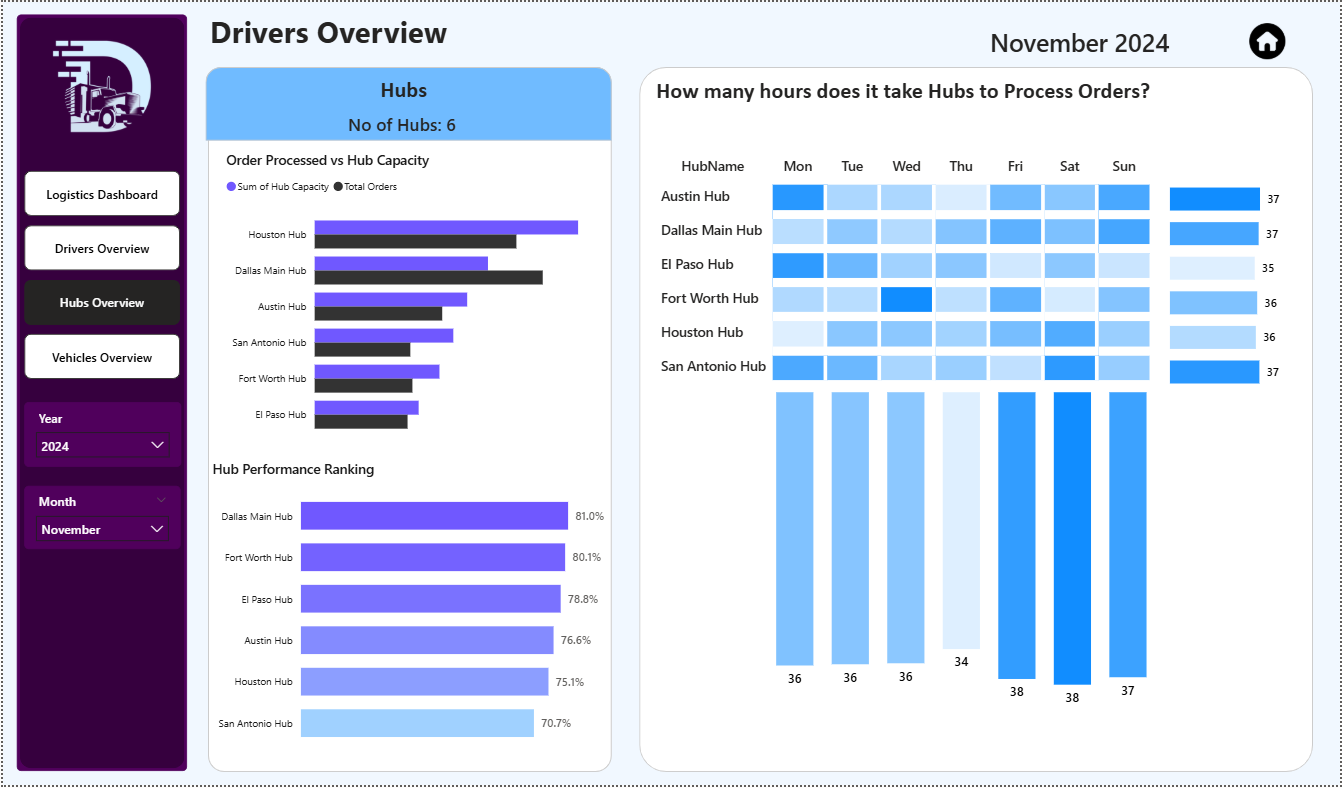

Layout of this report page (visuals, bound fields, positions):
{"tool":"powerbi","page":{"name":"Hubs Overview","canvas":[1450,850],"ordinal":2},"visuals":[{"type":"shape","box":[15.5,14,185,820.8],"z":0},{"type":"textbox","box":[219.7,5.4,383.8,58.3],"z":1000},{"type":"slicer","fields":{"Values":["Date Table.Year"]},"box":[22.9,434.3,170,70],"z":2000},{"type":"slicer","fields":{"Values":["Date Table.Month"]},"box":[23.1,525.2,169.5,69.2],"z":3000},{"type":"image","box":[43.4,29.8,130.2,131.5],"z":4000},{"type":"cardVisual","fields":{"Data":["Orders.Year Month Title"]},"box":[1025.2,16.3,286.1,50.2],"z":5000},{"type":"image","box":[1352,14.9,39.3,55.6],"z":6000},{"type":"shape","box":[222.4,70.5,438,764.8],"z":7000},{"type":"shape","box":[219.7,70.5,440.7,80],"z":8000},{"type":"textbox","box":[284.6,74.9,300,40],"z":9000},{"type":"cardVisual","fields":{"Data":["Hubs.No of Hubs"]},"box":[330.3,113.5,204.3,35.7],"z":10000},{"type":"clusteredBarChart","title":"Order Processed vs Hub Capacity","fields":{"Category":["Hubs.HubName"],"Y":["Sum(Hubs.Hub Capacity)","Orders.Total Orders"]},"box":[237.3,161.4,406.8,322.8],"z":11000},{"type":"barChart","title":"Hub Performance Ranking","fields":{"Category":["Hubs.HubName"],"Y":["Orders.On Time Delivery Rate"]},"box":[222.4,496.3,438,325.5],"z":12000},{"type":"shape","box":[690.3,70.5,730.9,764.8],"z":13000},{"type":"pivotTable","fields":{"Rows":["Hubs.HubName"],"Columns":["Date Table.Day"],"Values":["Orders.Avg Delivery Time (Hrs)"]},"box":[703.8,161.4,557.4,263.1],"z":14000},{"type":"columnChart","fields":{"Category":["Date Table.Day"],"Y":["Orders.Avg Delivery Time (Hrs)"]},"box":[834,409.5,413.6,362.1],"z":15000},{"type":"barChart","fields":{"Category":["Hubs.HubName"],"Y":["Orders.Avg Delivery Time (Hrs)"]},"box":[1261.2,188.5,141,231.9],"z":16000},{"type":"textbox","box":[703.8,75.9,607.5,39.3],"z":17000},{"type":"pageNavigator","box":[23.1,183.1,169.5,226.5],"z":17001}]}

Visuals, with their boxes in screenshot pixels (x1, y1, x2, y2), scaled from the page's 1450x850 canvas onto the 1342x788 screenshot:
shape: x1=14, y1=13, x2=186, y2=774
textbox: x1=203, y1=5, x2=559, y2=59
slicer - Date Table.Year: x1=21, y1=403, x2=179, y2=468
slicer - Date Table.Month: x1=21, y1=487, x2=178, y2=551
image: x1=40, y1=28, x2=161, y2=150
cardVisual - Orders.Year Month Title: x1=949, y1=15, x2=1214, y2=62
image: x1=1251, y1=14, x2=1288, y2=65
shape: x1=206, y1=65, x2=611, y2=774
shape: x1=203, y1=65, x2=611, y2=140
textbox: x1=263, y1=69, x2=541, y2=107
cardVisual - Hubs.No of Hubs: x1=306, y1=105, x2=495, y2=138
"Order Processed vs Hub Capacity" clusteredBarChart: x1=220, y1=150, x2=596, y2=449
"Hub Performance Ranking" barChart: x1=206, y1=460, x2=611, y2=762
shape: x1=639, y1=65, x2=1315, y2=774
pivotTable - Hubs.HubName x Date Table.Day: x1=651, y1=150, x2=1167, y2=394
columnChart - Date Table.Day x Orders.Avg Delivery Time (Hrs): x1=772, y1=380, x2=1155, y2=715
barChart - Hubs.HubName x Orders.Avg Delivery Time (Hrs): x1=1167, y1=175, x2=1298, y2=390
textbox: x1=651, y1=70, x2=1214, y2=107
pageNavigator: x1=21, y1=170, x2=178, y2=380
